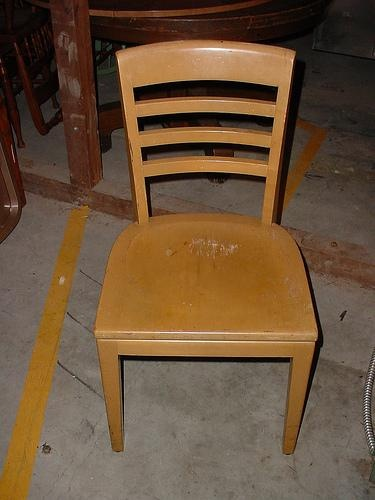obstacle: (95, 41, 318, 453)
